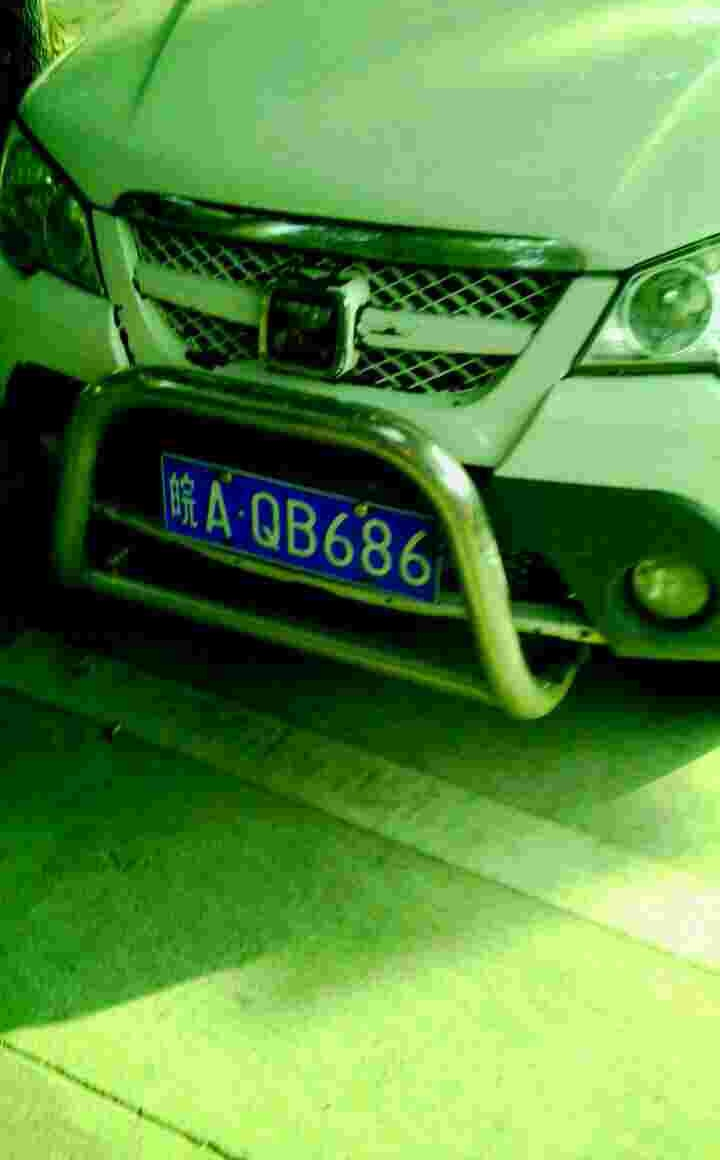license_plate: (153, 452, 456, 596)
